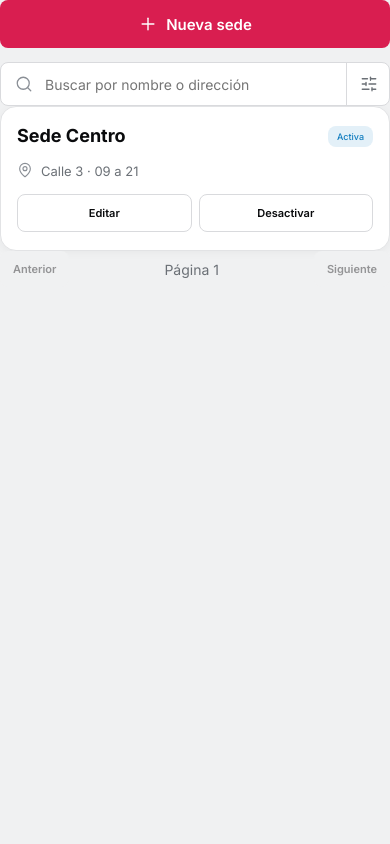
Scenario: administración de sedes › muestra controles compactos y conserva acciones en celular
Expected: the button with class "admin-branches-mobile-create" is shown, [0, 0, 389, 48]
Expected: the field with placeholder "Buscar por nombre o dirección" is shown, [43, 74, 337, 94]
Click the button named "Mostrar filtros" at (368, 84), box [346, 62, 389, 106]
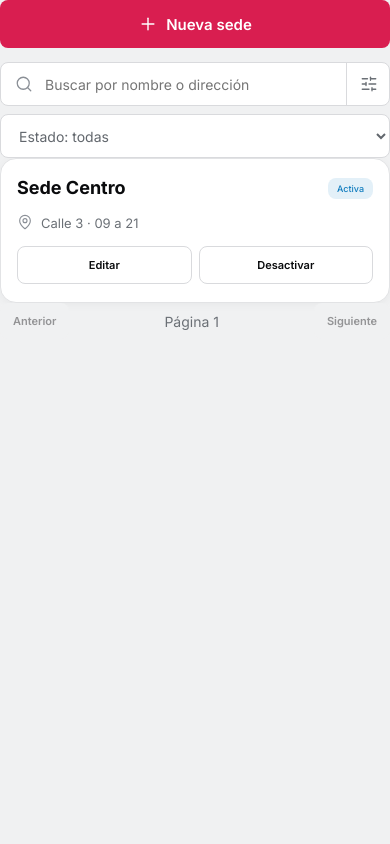
Click the button with class "admin-branches-mobile-create" at (195, 24), box [0, 0, 389, 48]
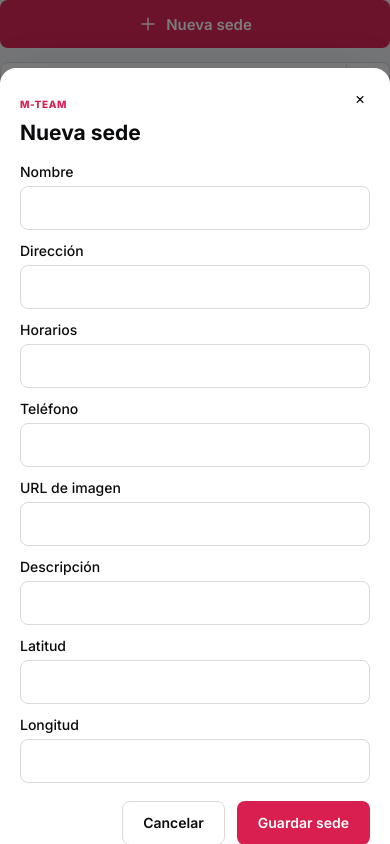
Expected: the dialog "Nueva sede" is shown
